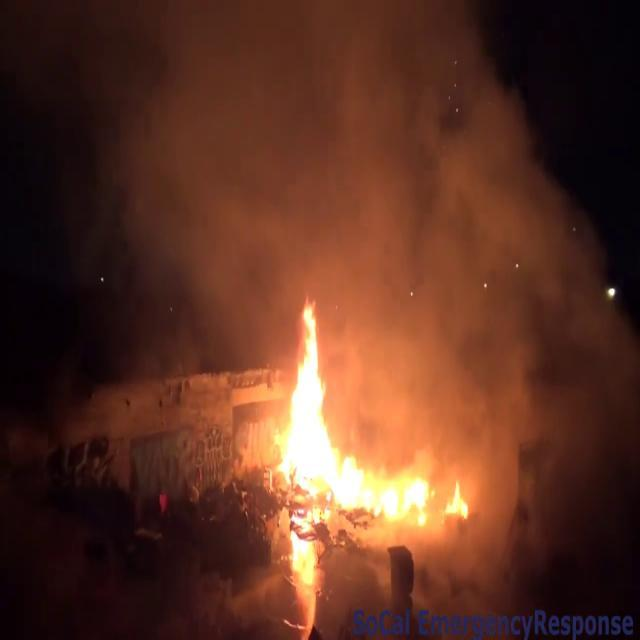Fire: (270, 296, 470, 548)
Smoke: (82, 0, 600, 414), (334, 4, 606, 468)
